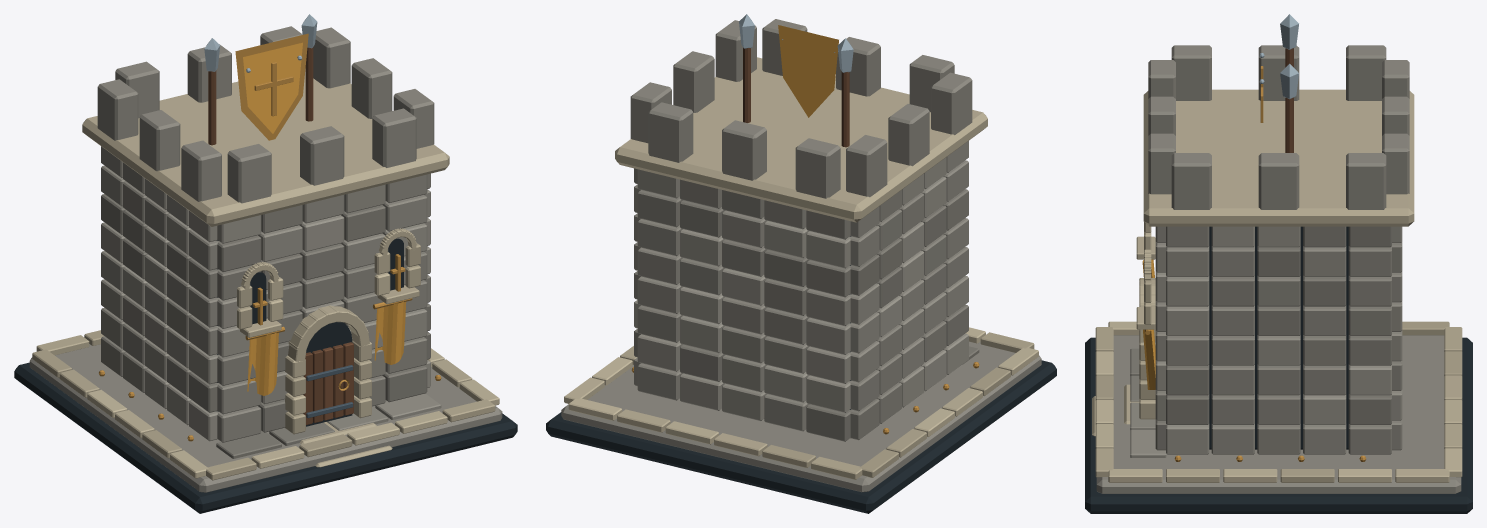
Rendered from militia__guardiao__L05.glb.
3 views of the same model, side by side, from view 1: azimuth 30°, elevation 25°; view 2: azimuth 150°, elevation 25°; view 3: azimuth 270°, elevation 25° (orthographic). The views are drawn at different scales.
Parts seen in each view (by area): view 1: structure, weapon, banners; view 2: structure, weapon; view 3: structure, weapon, banners.
Boxes of the visible parts, x1=… form: structure: x1=14, y1=26, x2=517, y2=513; weapon: x1=204, y1=14, x2=317, y2=145; banners: x1=245, y1=298, x2=412, y2=395; structure: x1=546, y1=19, x2=1056, y2=513; weapon: x1=739, y1=14, x2=853, y2=147; structure: x1=1085, y1=45, x2=1472, y2=513; weapon: x1=1259, y1=14, x2=1298, y2=152; banners: x1=1142, y1=259, x2=1155, y2=389.
Bounding box in the file's own units: 0.803 × 0.9042 × 0.803.
